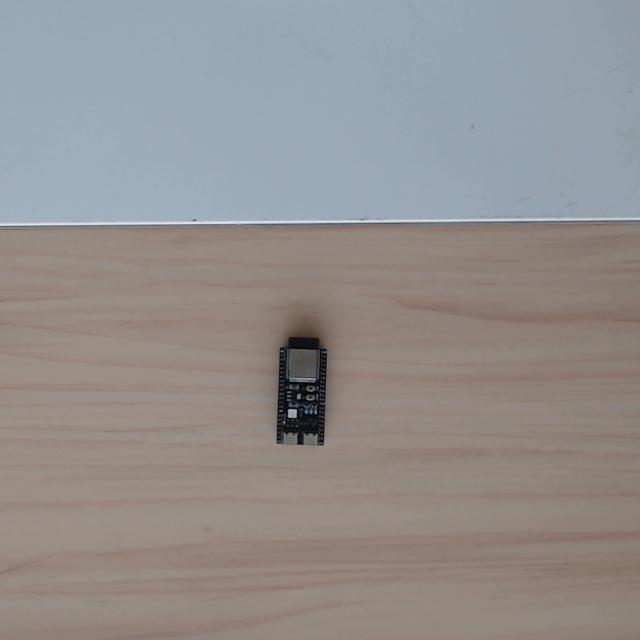ESP32S3-Devkit: (276, 337, 329, 448)
